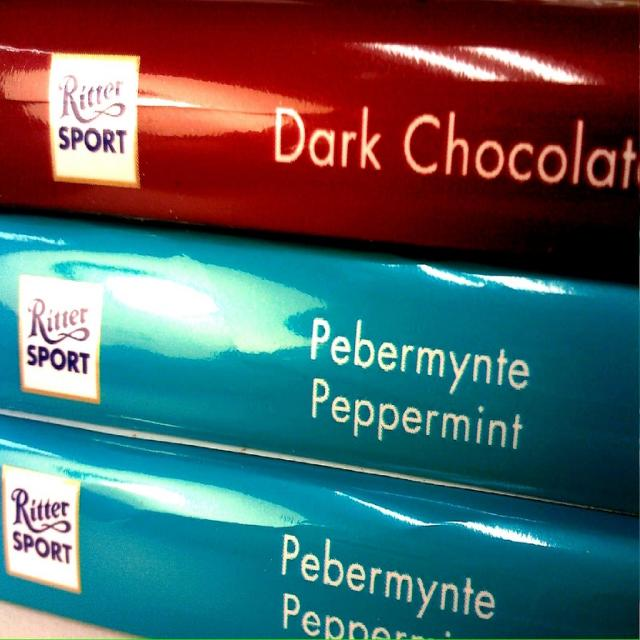rittersport: (50, 53, 140, 184), (20, 277, 103, 403), (2, 466, 84, 590)
